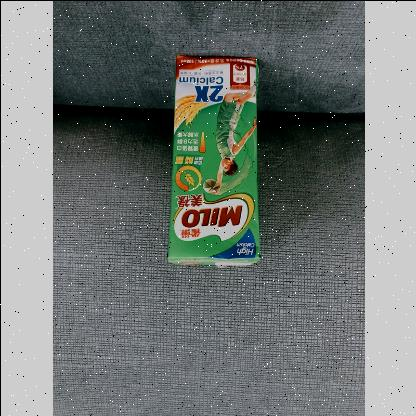Others: (167, 56, 258, 264)
